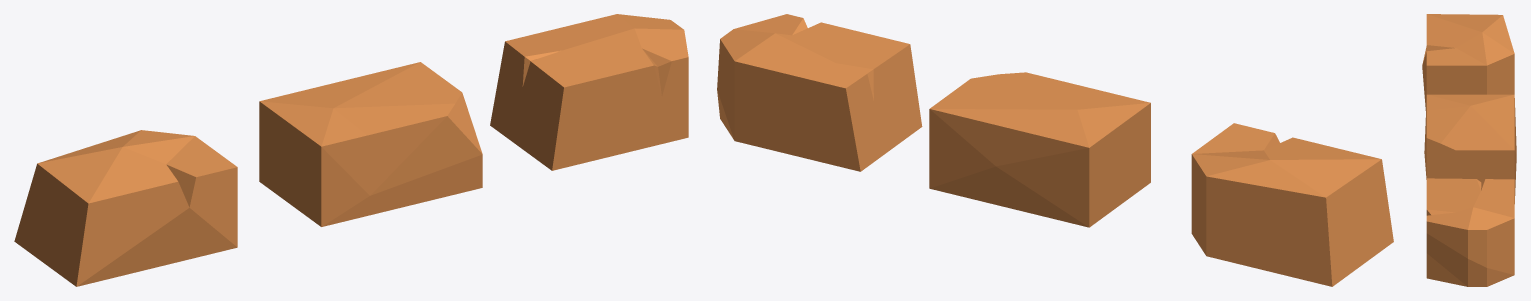
The model's file is maya_rock.fbx.
The picture shows the model from 3 angles, left to right: view 1: azimuth 30°, elevation 25°; view 2: azimuth 150°, elevation 25°; view 3: azimuth 270°, elevation 25°; orthographic projection. The views are drawn at different scales.
Visible parts, largest first — view 1: rock_2, rock_1, rock_3; view 2: rock_2, rock_1, rock_3; view 3: rock_3, rock_2, rock_1.
Part boxes in pixels (<box>): rock_2: <box>259,62,482,226</box>; rock_1: <box>14,130,237,286</box>; rock_3: <box>490,14,688,170</box>; rock_2: <box>929,72,1150,227</box>; rock_1: <box>1191,123,1393,286</box>; rock_3: <box>717,14,922,171</box>; rock_3: <box>1426,178,1514,286</box>; rock_2: <box>1424,94,1516,203</box>; rock_1: <box>1422,14,1514,110</box>.
Size of the model in its own units: 1191 by 161 by 215.
